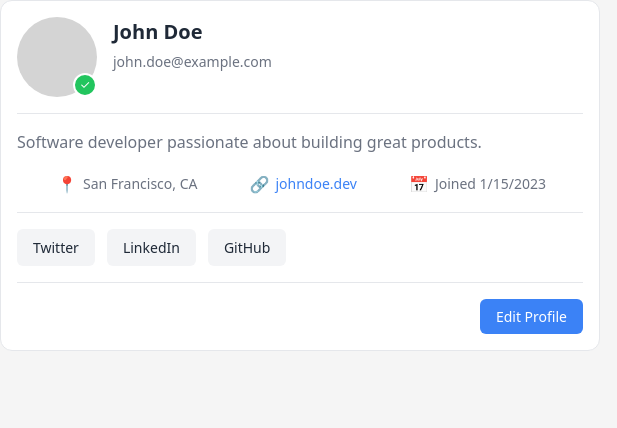
Test case: UserProfile › Editing › exits edit mode when cancel button is clicked
What coordinates should you click on to do the following:
click the button with test id "edit-button"
I would click on:
 (531, 316)
Its box is [480, 299, 583, 334].
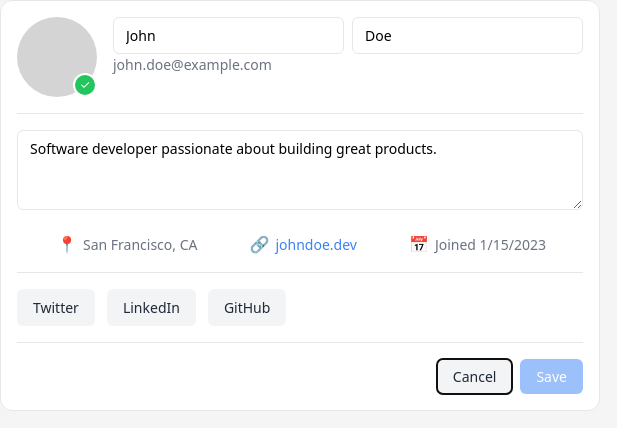
Expected: the field with test id "edit-first-name" is shown, [113, 17, 344, 54]
What coordinates should you click on to do the following:
click the button with test id "cancel-edit-button"
I would click on:
 (475, 376)
Its box is [437, 359, 512, 394].
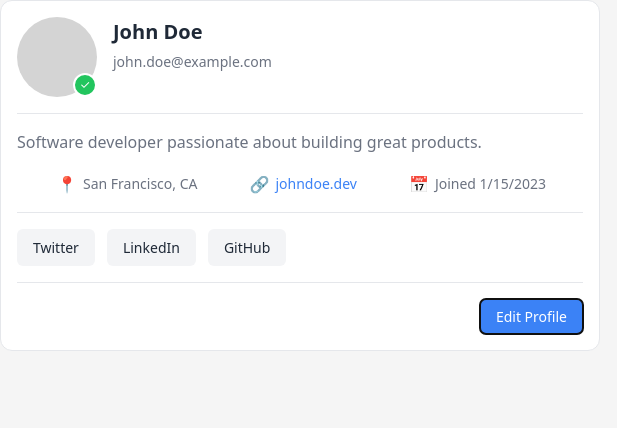
Expected: the field with test id "edit-first-name" is gone
